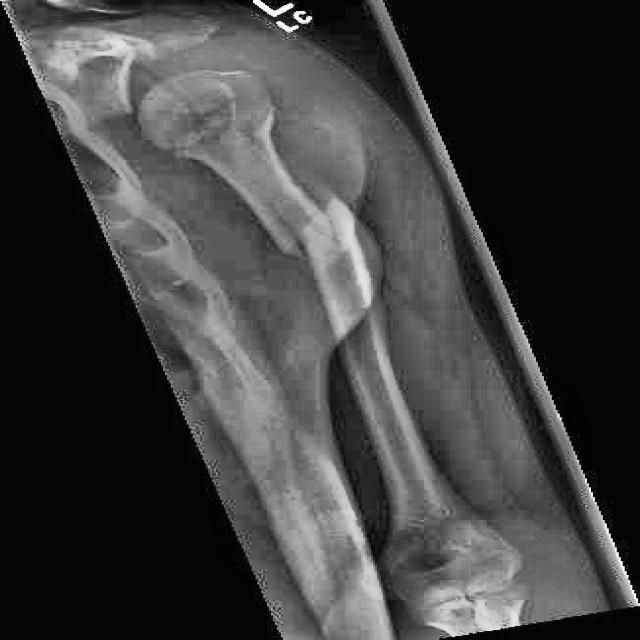humerus: (207, 156, 451, 370)
